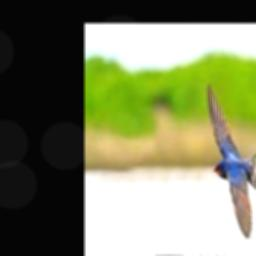Swallow: (206, 81, 256, 238)
